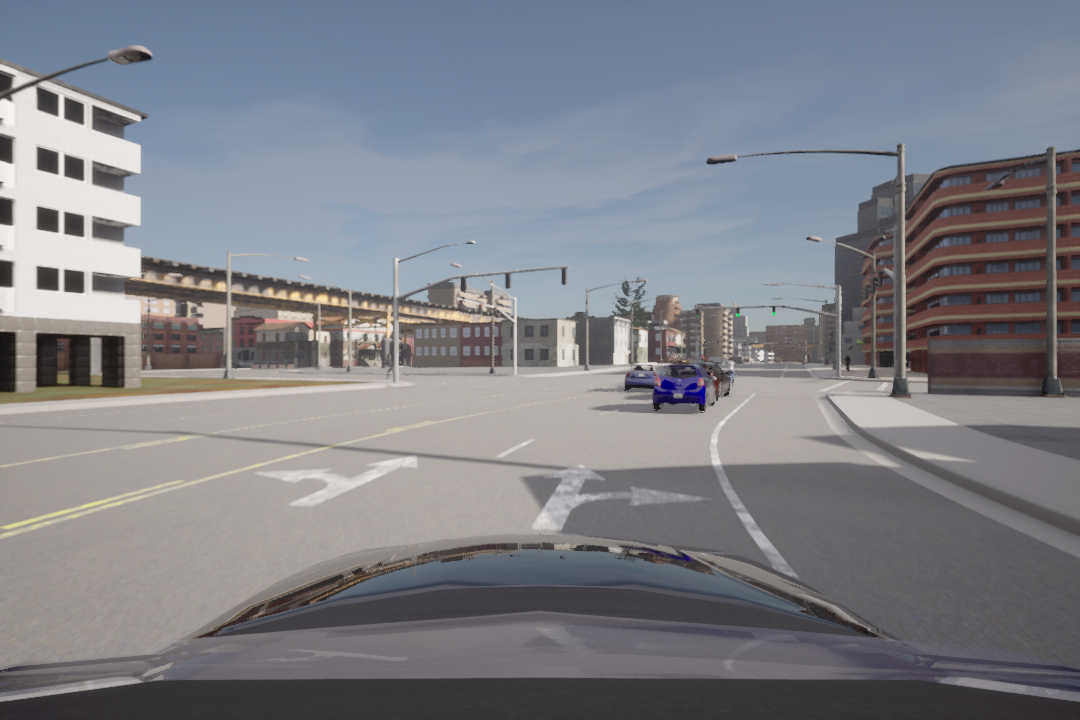RoadSign_forward_left: (252, 451, 434, 517)
RoadSign_forward_right: (526, 462, 712, 541)
TrafficLight: (770, 304, 776, 316), (735, 306, 740, 319), (694, 306, 699, 317)
